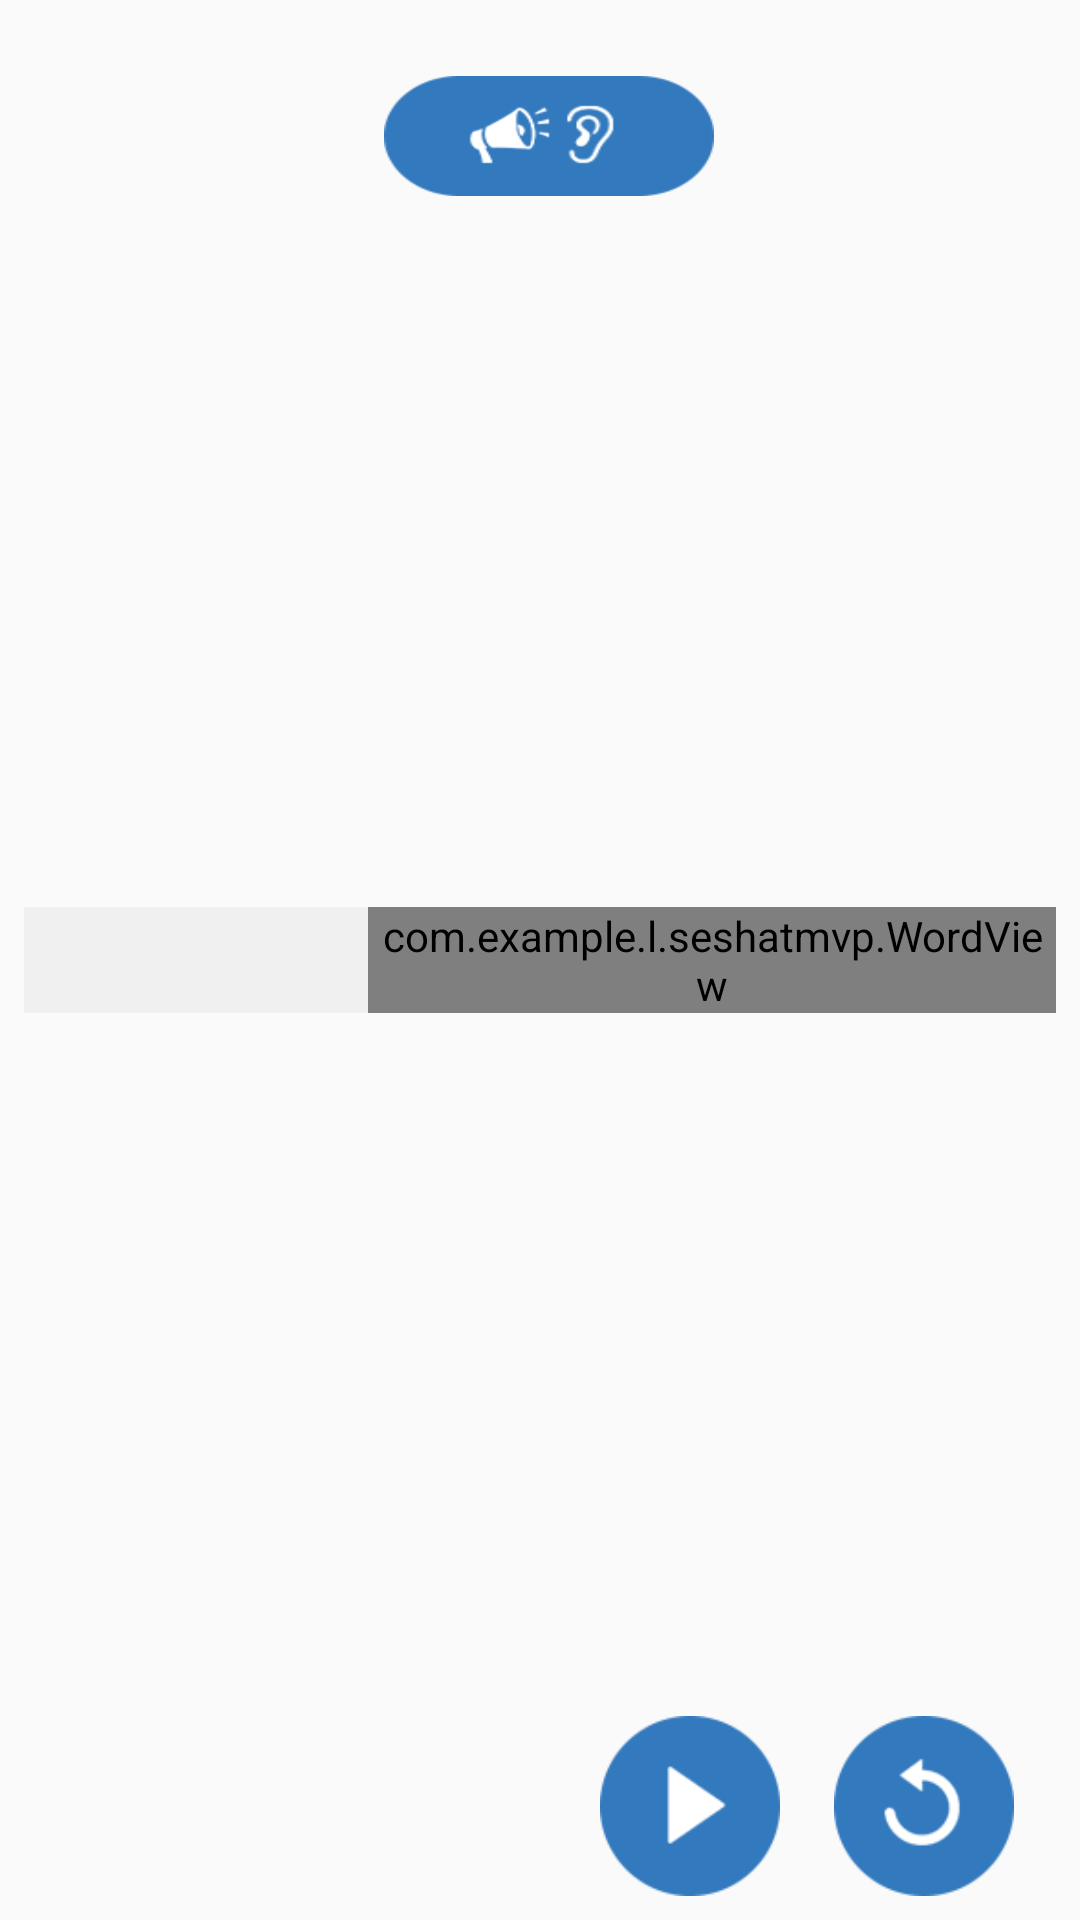

Screen size 1080px×1920px. Icon name, then its center in pixels as point (x, y):
mike voice: point (549, 136)
repeat: point (924, 1806)
